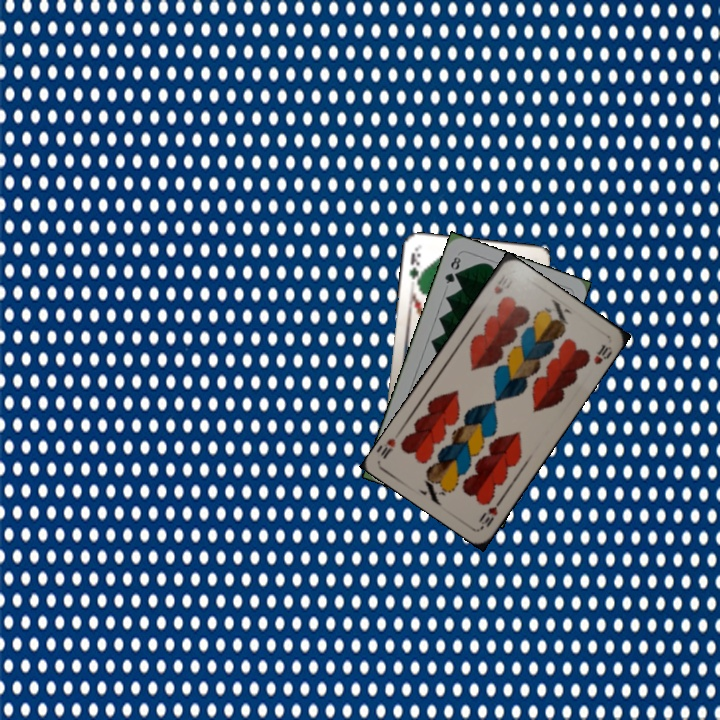G8: (441, 252, 463, 286)
GK: (405, 247, 423, 288)
H10: (474, 494, 505, 531), (490, 271, 508, 297)
